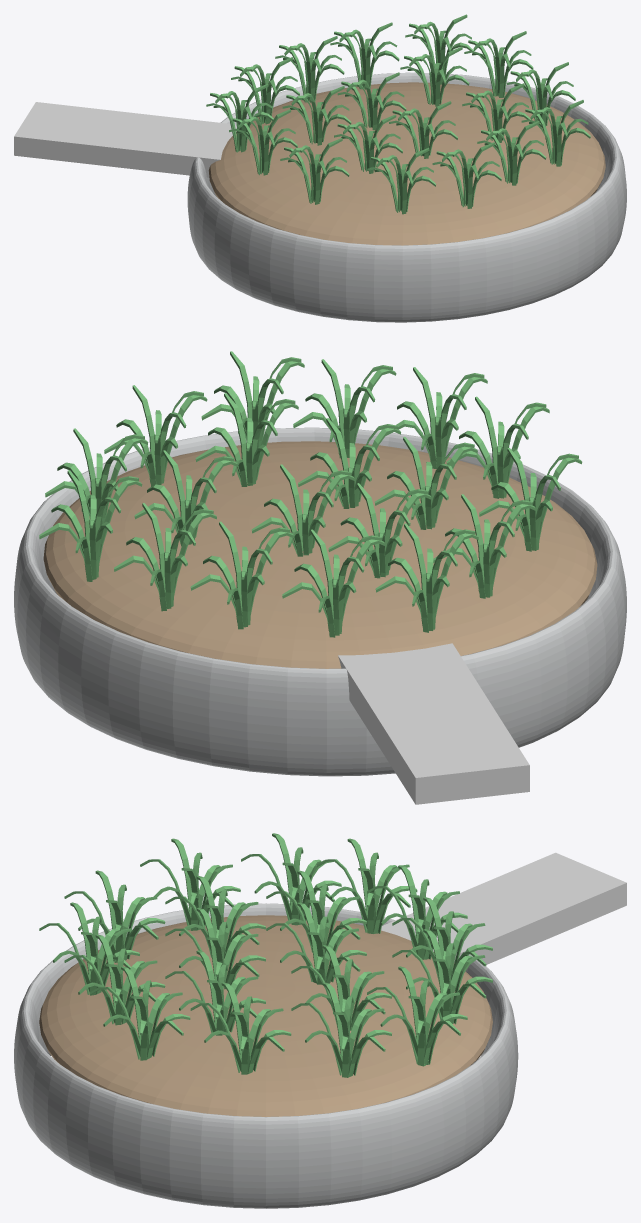
Rendered from ExquisiteJofo2.glb.
3 views of the same model, one above another, from view 1: azimuth 30°, elevation 25°; view 2: azimuth 150°, elevation 25°; view 3: azimuth 270°, elevation 25° (orthographic). The views are drawn at different scales.
Visible parts, largest first — view 1: Mesh_Mesh_head_geo.001_lambert2SG.001; view 2: Mesh_Mesh_head_geo.001_lambert2SG.001; view 3: Mesh_Mesh_head_geo.001_lambert2SG.001.
Part boxes in pixels (left/top/right/bottom): Mesh_Mesh_head_geo.001_lambert2SG.001: left=14, top=14, right=626, bottom=322; Mesh_Mesh_head_geo.001_lambert2SG.001: left=14, top=351, right=626, bottom=804; Mesh_Mesh_head_geo.001_lambert2SG.001: left=14, top=833, right=626, bottom=1208.
Size of the model in its own units: 0.0253 by 0.00788 by 0.0243.
